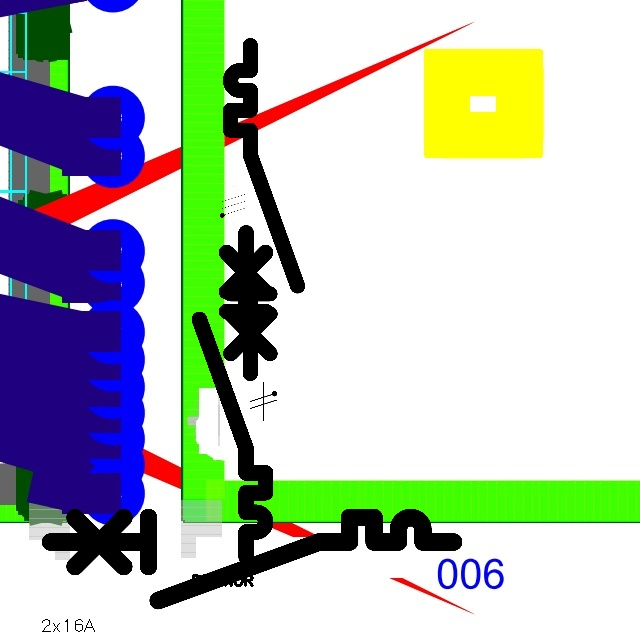interruptor_termomagnetico: (40, 507, 464, 611), (222, 37, 306, 382), (191, 224, 274, 564)
